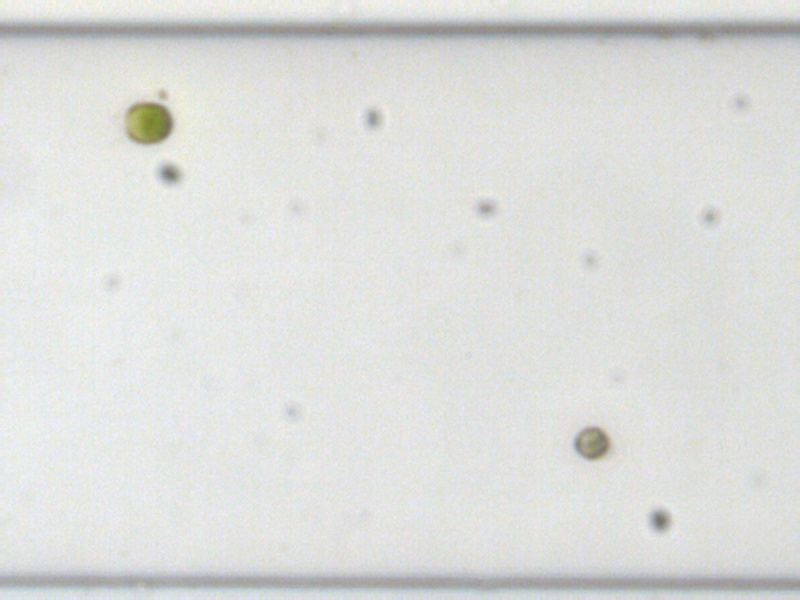Effrenium: (570, 423, 610, 461)
Platymonas: (120, 98, 174, 147)
